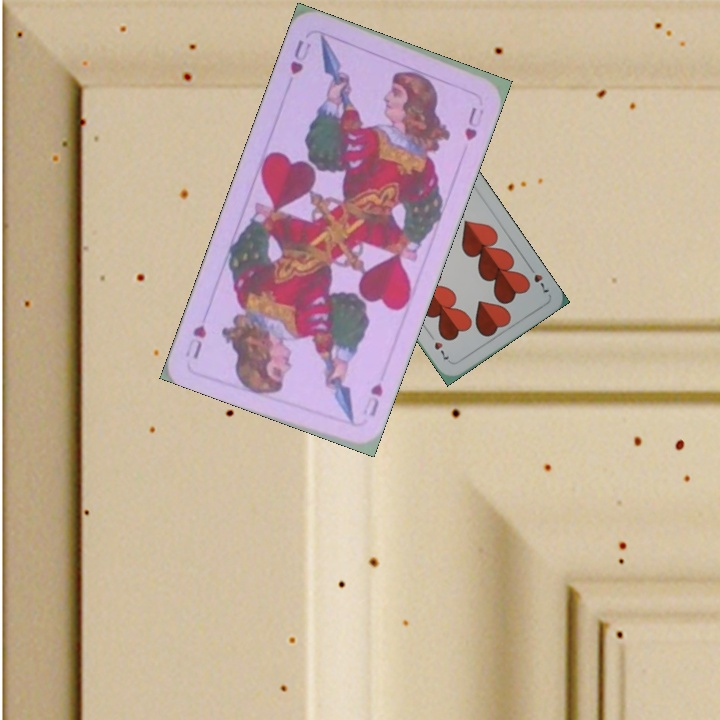H7: (524, 261, 552, 297)
HU: (286, 35, 314, 78), (359, 379, 386, 419)
